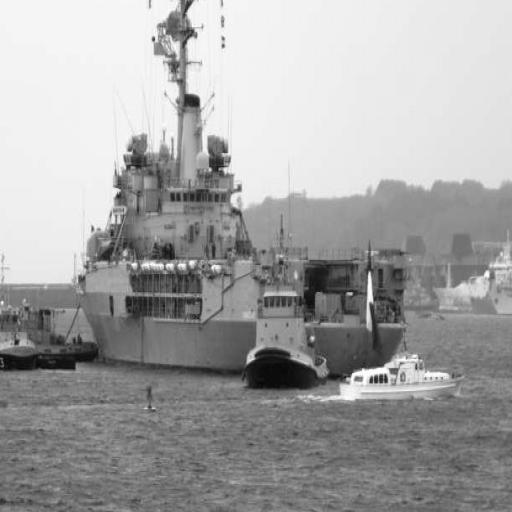Portanaves: (69, 1, 417, 384)
